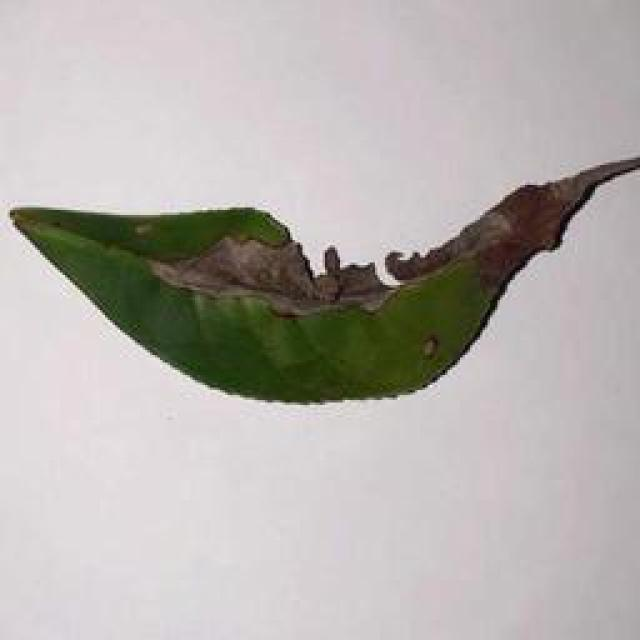Brown Blight: (20, 146, 633, 414)
